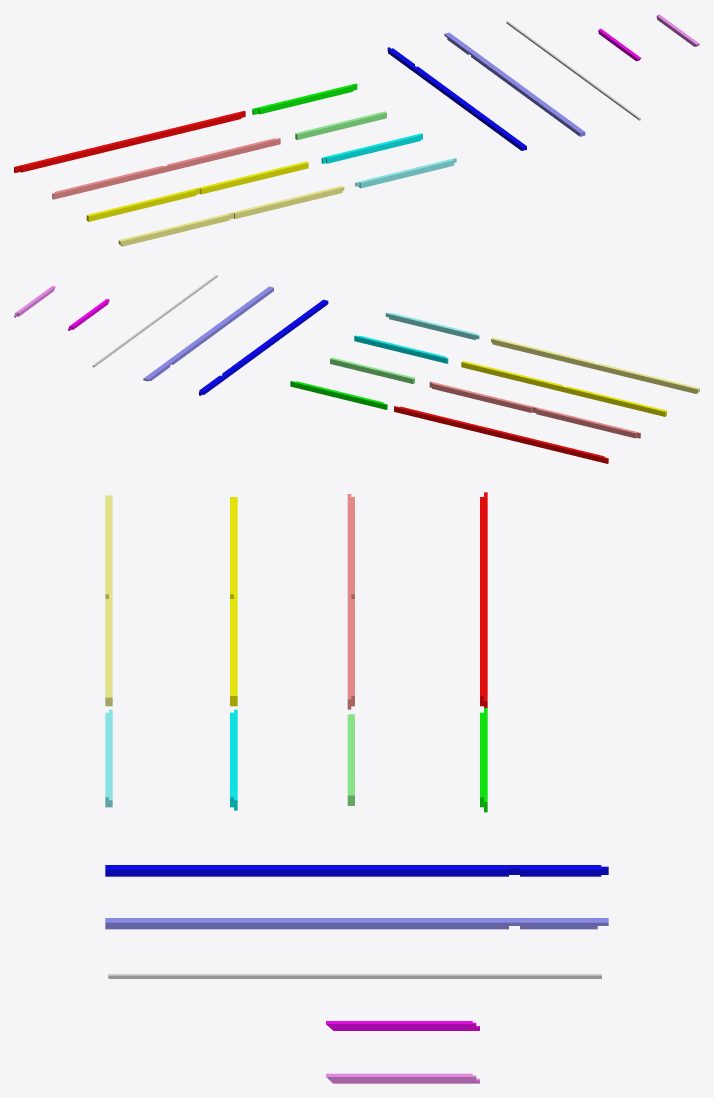
File: moyai.glb
3 renders of one model, top to bottom at view 1: azimuth 30°, elevation 25°; view 2: azimuth 150°, elevation 25°; view 3: azimuth 270°, elevation 25°, orthographic. The views are drawn at different scales.
Parts seen in each view (by area): view 1: A4-r, A3-r, A2-r1, A2-l1, A1-r1, C2-l, C1-bl, A1-l1, A4-l, B4-f, A3-l, B3-f (+5 smaller); view 2: A1-r1, A2-r1, A3-r, A4-l, C2-l, C1-fr, A4-r, A3-l, B3-f, B4-f, B1-f1, C2r (+6 smaller); view 3: C2-l, C1-fr, C1-bl, L0, C2r, C1-fl, A1-r1, A4-r, A2-r1, A3-r, L2-2, C1-br (+2 smaller).
Boxes of the visible parts, x1,y1,x2,y2 form: A4-r: [118, 185, 344, 246]; A3-r: [86, 161, 308, 221]; A2-r1: [52, 143, 260, 198]; A2-l1: [52, 138, 280, 199]; A1-r1: [14, 111, 242, 172]; C2-l: [444, 32, 584, 135]; C1-bl: [388, 49, 526, 146]; A1-l1: [14, 110, 245, 171]; A4-l: [119, 186, 343, 246]; B4-f: [355, 158, 456, 188]; A3-l: [87, 161, 308, 220]; B3-f: [321, 133, 422, 163]; A1-r1: [394, 406, 608, 463]; A2-r1: [429, 382, 640, 438]; A3-r: [461, 361, 666, 413]; A4-l: [523, 347, 699, 393]; C2-l: [143, 286, 273, 381]; C1-fr: [200, 300, 328, 395]; A4-r: [491, 337, 699, 393]; A3-l: [535, 380, 666, 416]; B3-f: [354, 335, 448, 363]; B4-f: [385, 312, 479, 340]; B1-f1: [290, 381, 387, 409]; C2r: [144, 287, 273, 380]; C2-l: [105, 918, 608, 929]; C1-fr: [105, 865, 608, 876]; C1-bl: [105, 865, 608, 876]; L0: [108, 974, 601, 978]; C2r: [106, 918, 608, 929]; C1-fl: [105, 865, 608, 876]; A1-r1: [480, 492, 487, 707]; A4-r: [105, 495, 112, 706]; A2-r1: [347, 494, 354, 709]; A3-r: [230, 497, 237, 706]; L2-2: [326, 1073, 479, 1083]; C1-br: [105, 865, 607, 876].
Size of the model in its own units: 5.5 by 0.06 by 2.02.
